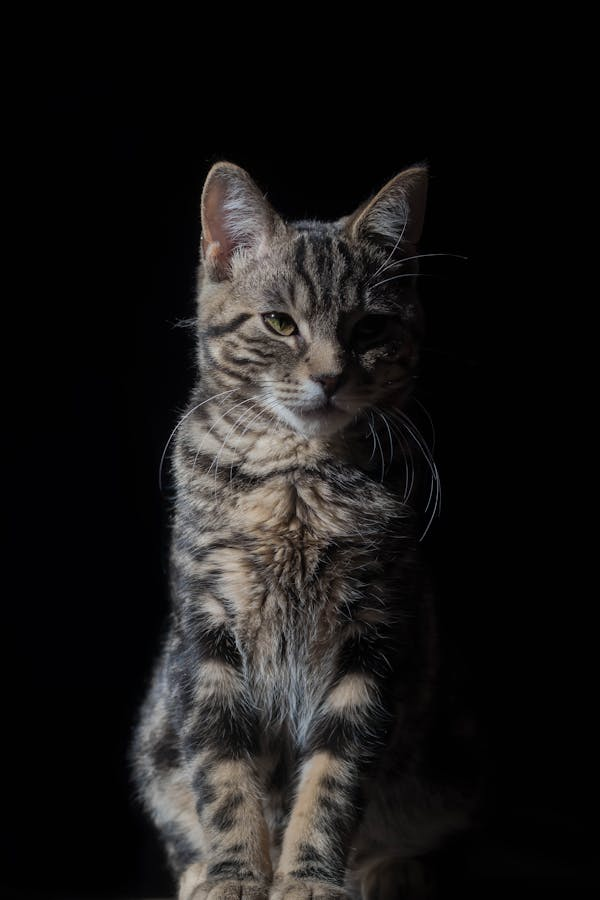Cat: (121, 144, 453, 900)
